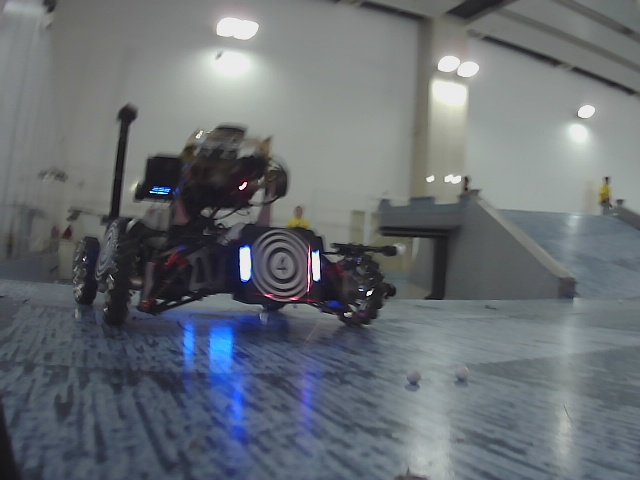lamp: (239, 246, 252, 282), (311, 250, 322, 282)
pair: (238, 246, 320, 284)
